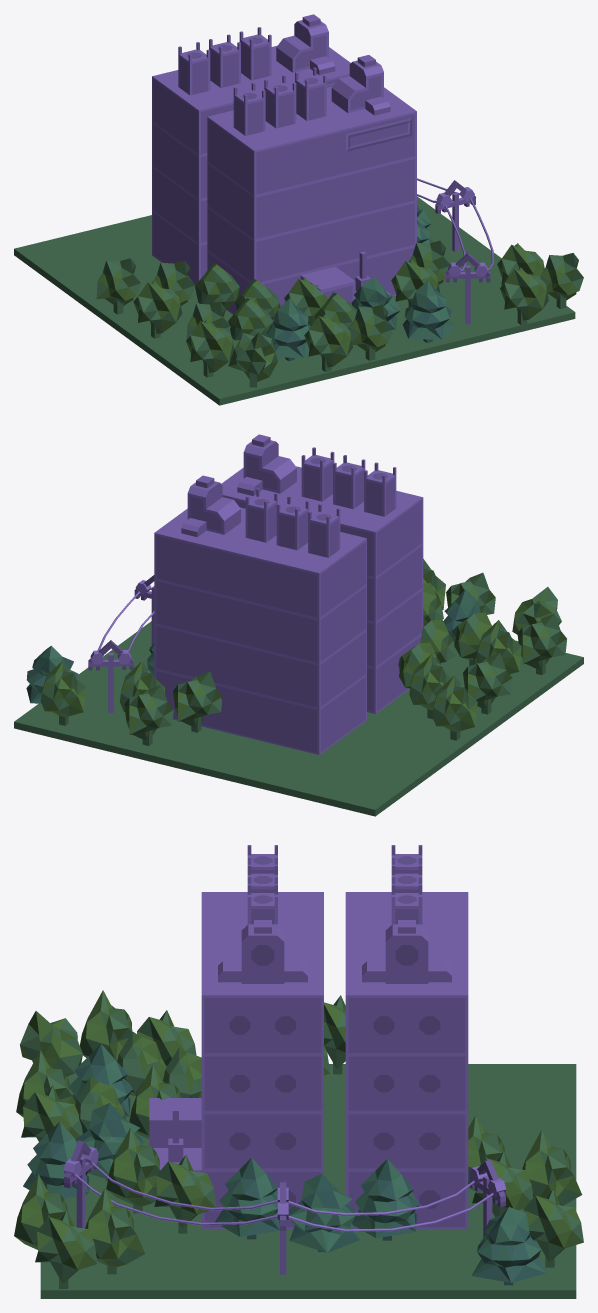
File: Factory.fbx
3 views of the same model, one above another, from view 1: azimuth 30°, elevation 25°; view 2: azimuth 150°, elevation 25°; view 3: azimuth 270°, elevation 25° (orthographic). The views are drawn at different scales.
Parts seen in each view (by area): view 1: Factory, Factory(Ground); view 2: Factory, Factory(Ground); view 3: Factory(Ground), Factory.
Part boxes in pixels (x1,y1,x2,y2): Factory: [152, 14, 416, 321]; Factory(Ground): [14, 178, 583, 405]; Factory: [154, 434, 423, 754]; Factory(Ground): [14, 559, 583, 816]; Factory(Ground): [14, 990, 583, 1298]; Factory: [149, 845, 468, 1228].
Size of the model in its own units: 184 by 106 by 185.
